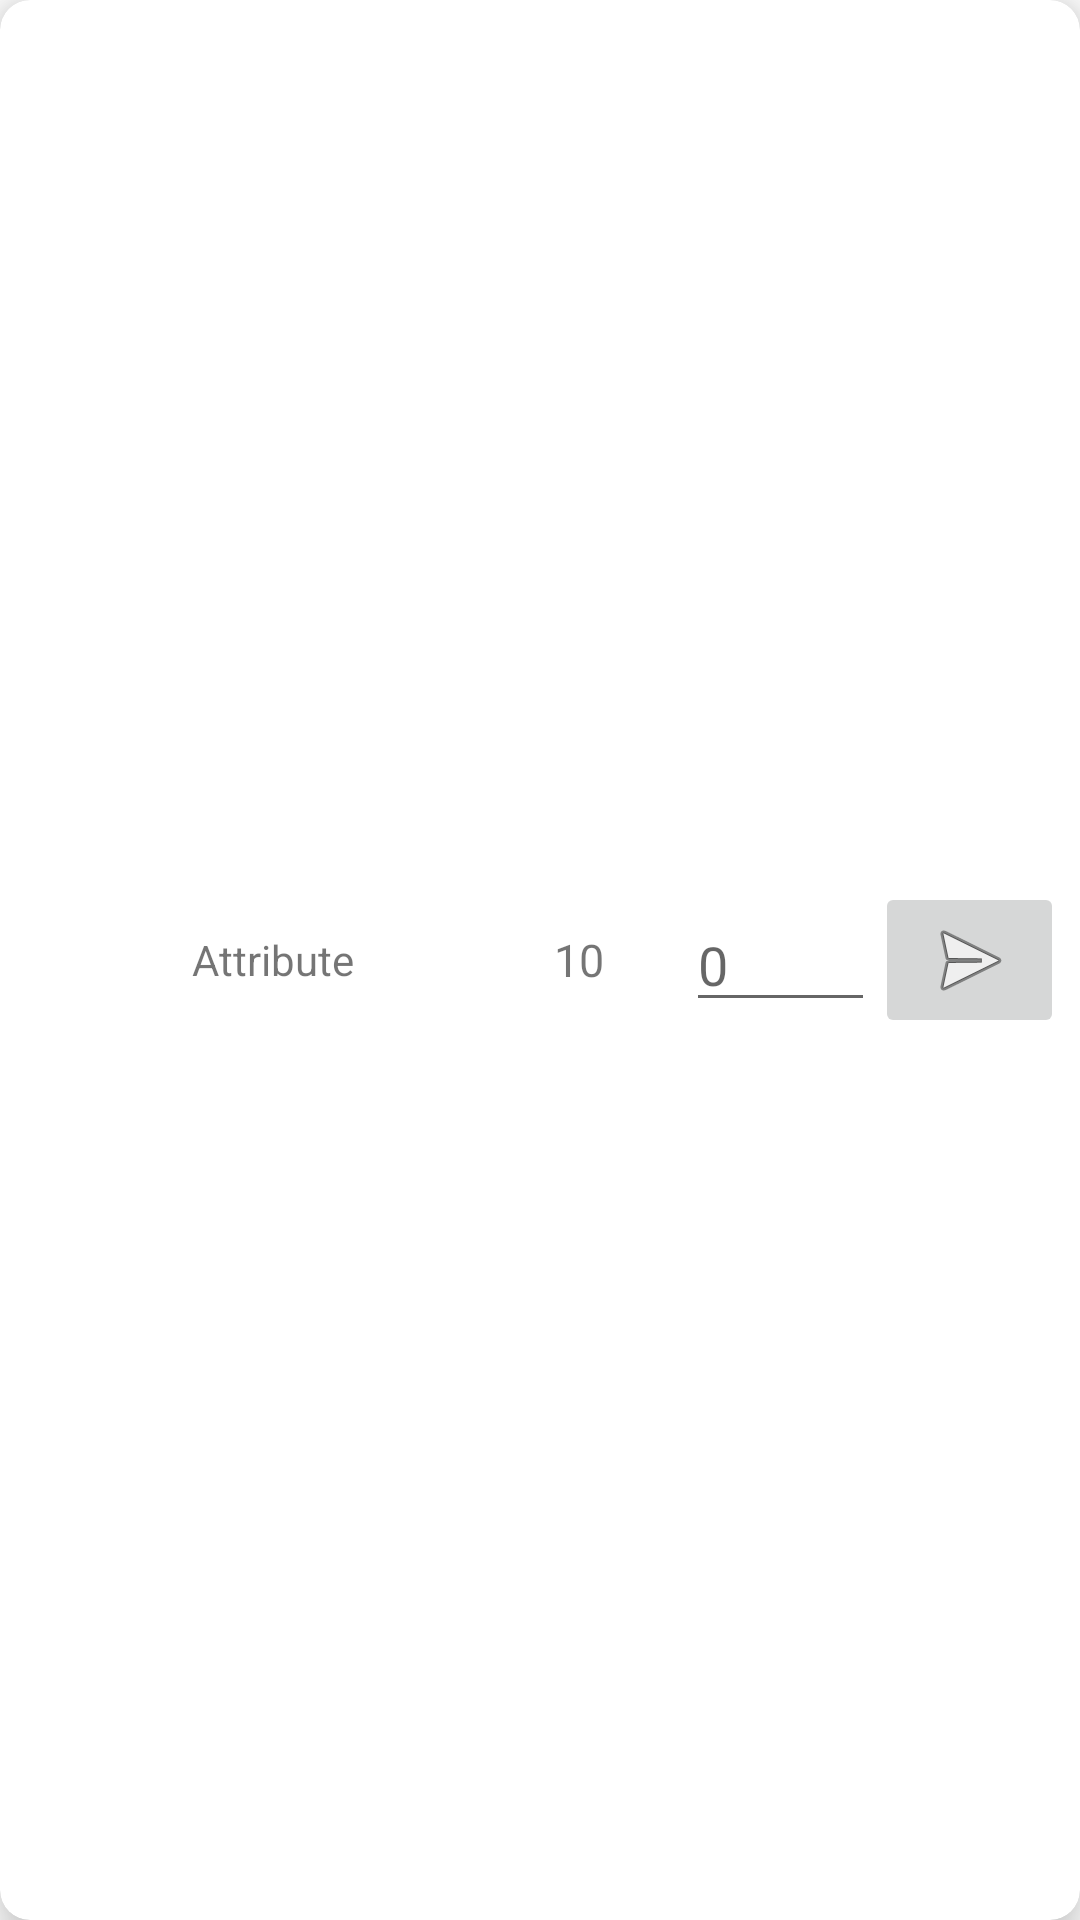

Icon bounding boxes for this 1080px x 1920px phone screenshot, format [x1=x1, y1=y1, x2=x2, y2=y2]:
send: [x1=887, y1=900, x2=1052, y2=1020]
